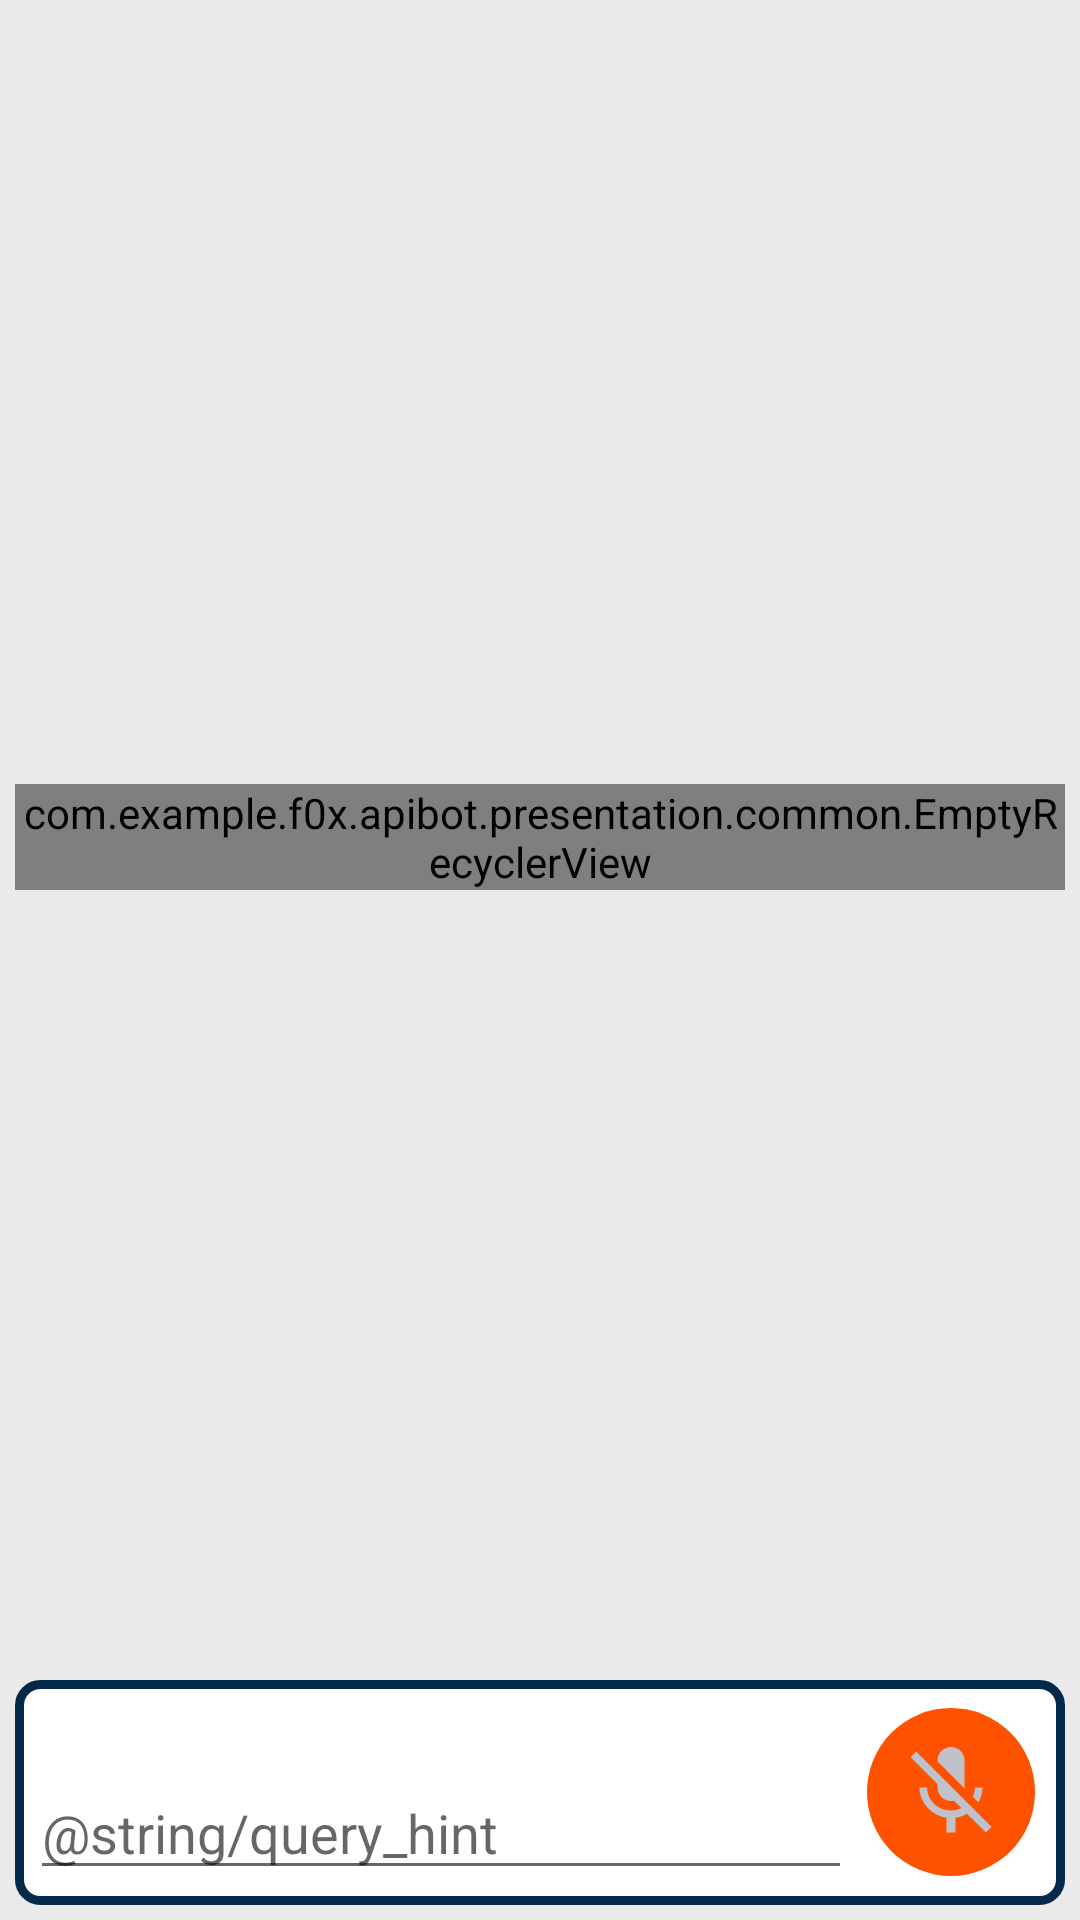

Named icons in this screenshot (1080*1920) and their centers, (x=x, y=y):
mic: (x=951, y=1792)
